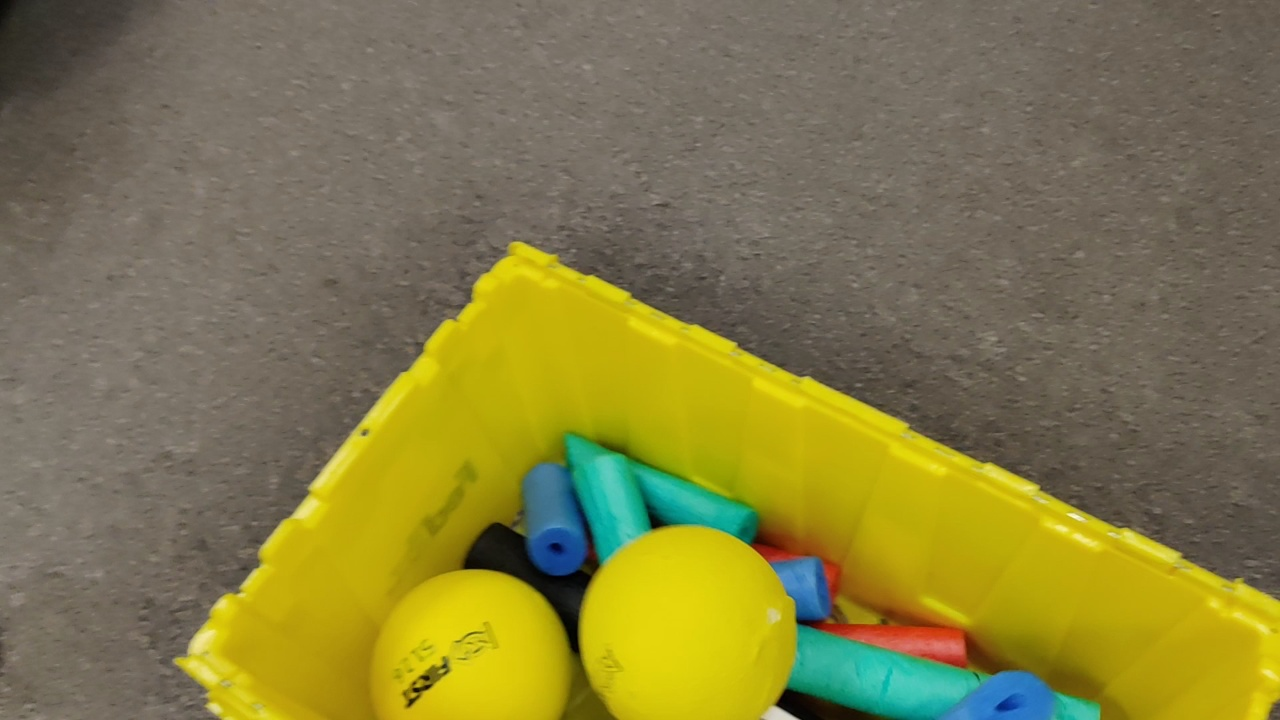Ball: (582, 528, 795, 720), (373, 571, 564, 720)
